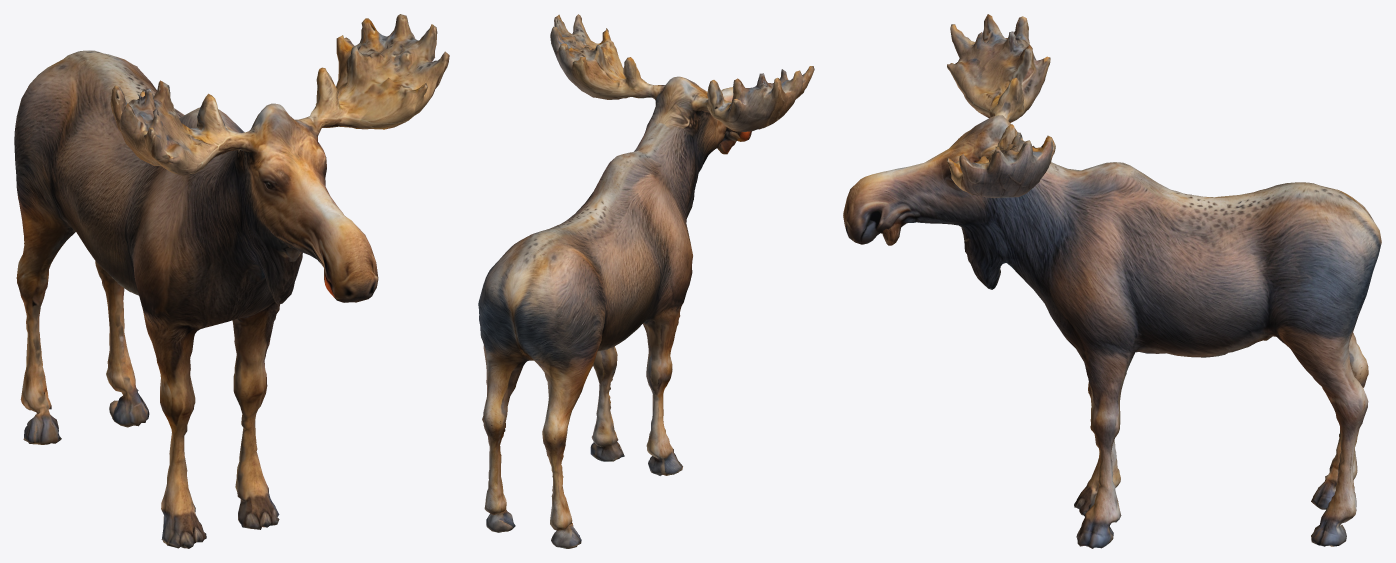
File: moose.glb
3 renders of one model, left to right at view 1: azimuth 30°, elevation 25°; view 2: azimuth 150°, elevation 25°; view 3: azimuth 270°, elevation 25°, orthographic. The views are drawn at different scales.
Parts seen in each view (by area): view 1: Object_2; view 2: Object_2; view 3: Object_2.
Part boxes in pixels (x1,y1,x2,y2): Object_2: [14, 14, 449, 548]; Object_2: [478, 14, 814, 548]; Object_2: [843, 14, 1381, 548].
Bounding box in the file's own units: 0.7229 × 1.11 × 1.2.
1 material, 1 textured.
